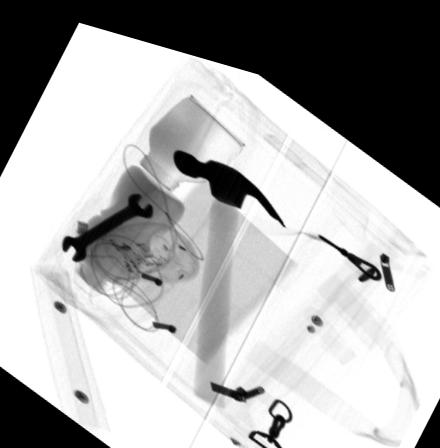Hammer: (173, 138, 284, 396)
Wrench: (62, 185, 153, 257)
